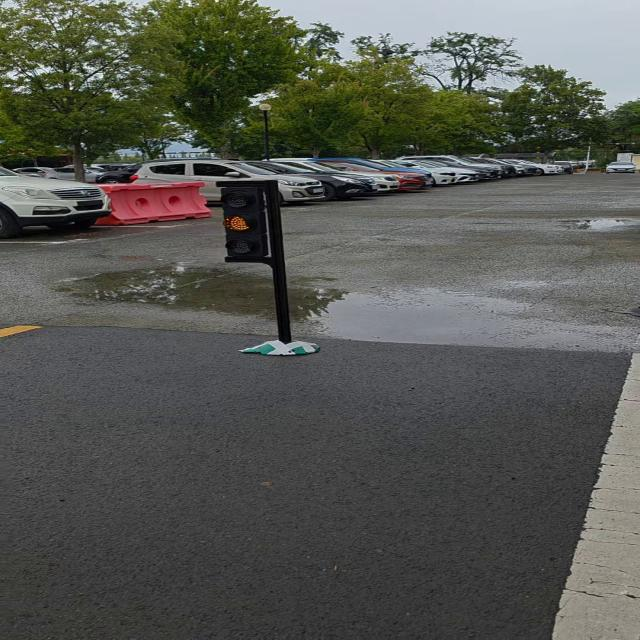yellow: (215, 181, 287, 264)
